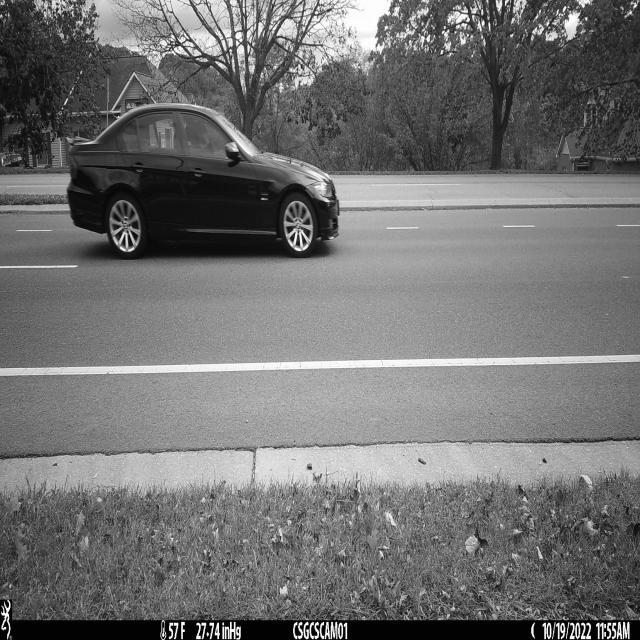Sedan: (65, 103, 339, 260)
